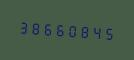eight: (29, 17, 40, 38), (77, 20, 88, 41)
five: (101, 22, 112, 43)
four: (89, 21, 100, 42)
six: (41, 18, 52, 38), (53, 19, 64, 39)
three: (17, 16, 28, 37)
zero: (65, 19, 76, 40)
